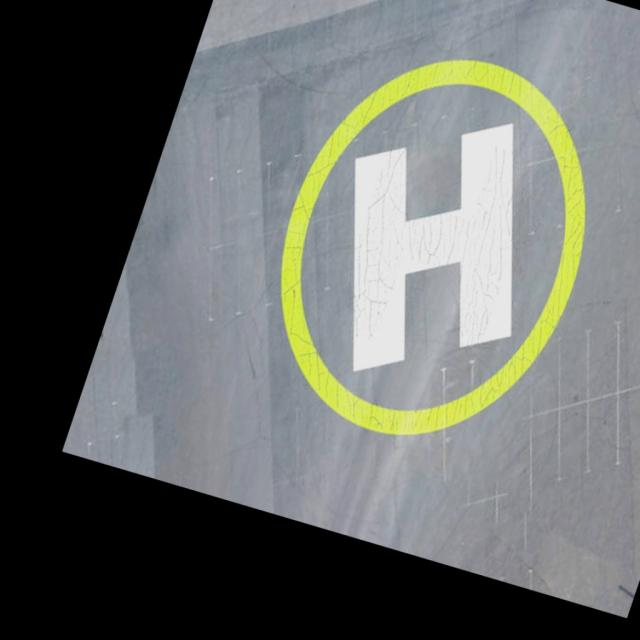helipad: (270, 50, 594, 441)
